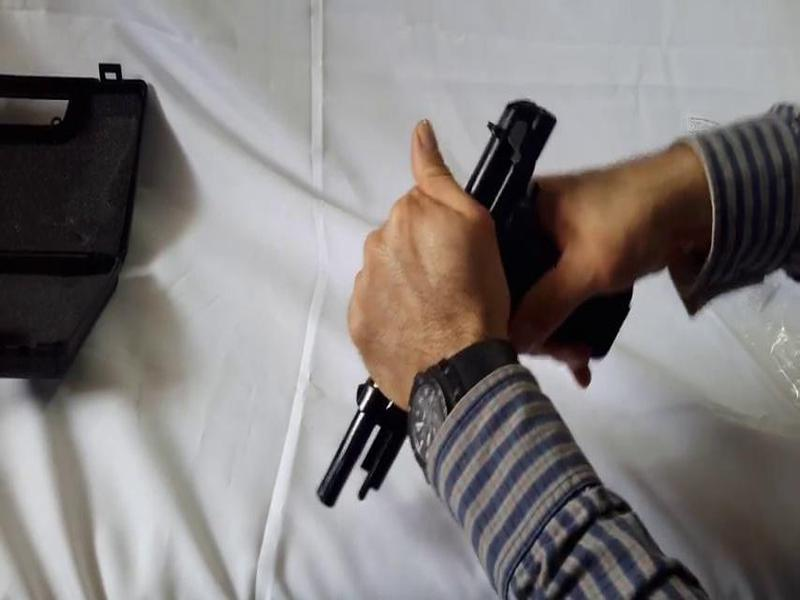Pistola: (300, 106, 639, 525)
